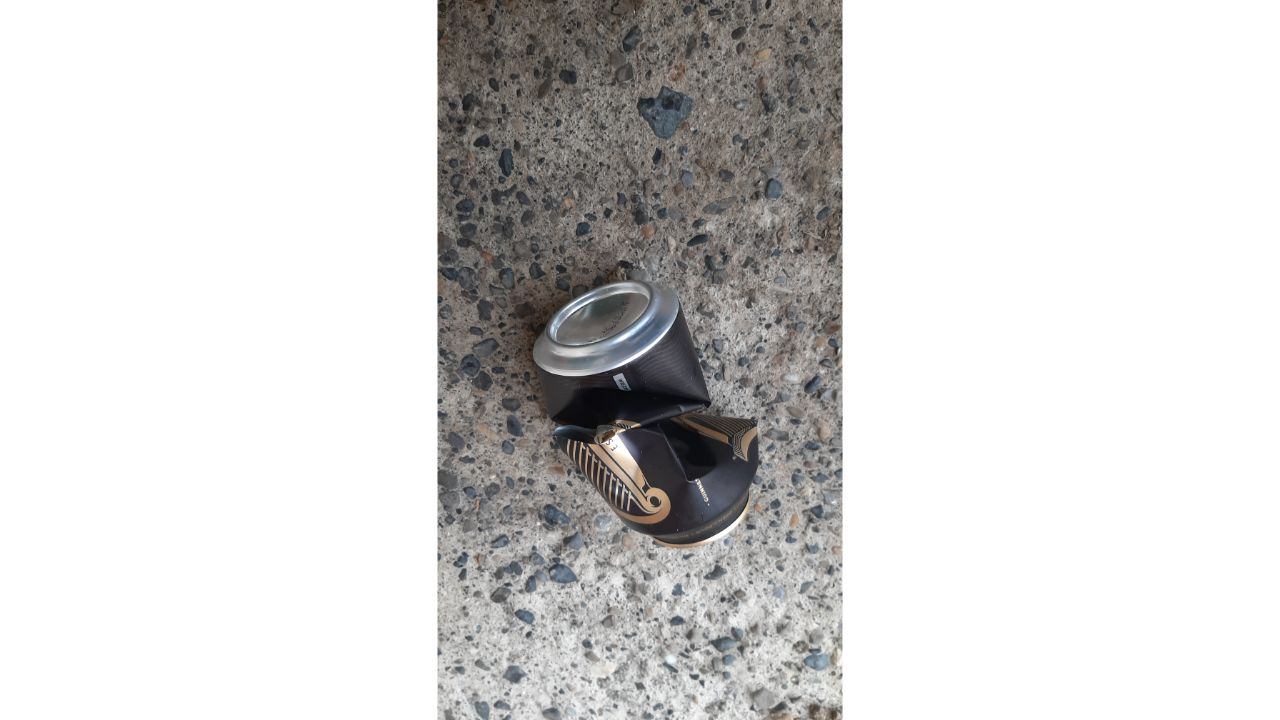Can: (531, 280, 760, 552)
